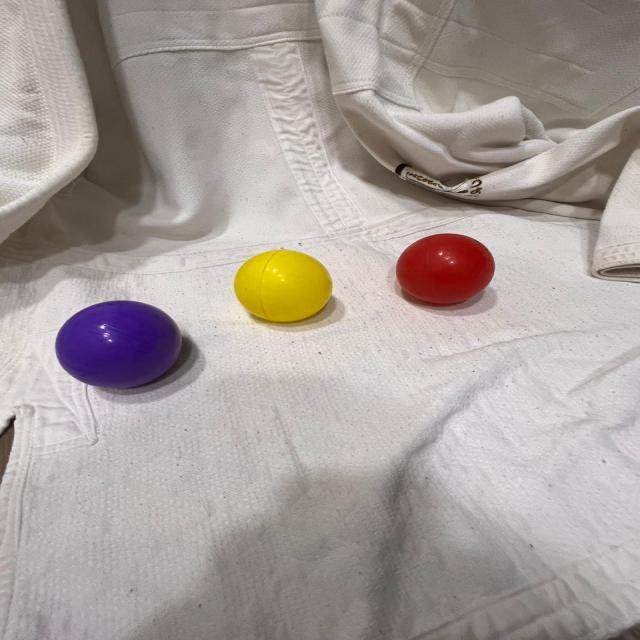ball: (52, 299, 186, 391), (230, 247, 337, 326), (390, 230, 497, 308)
